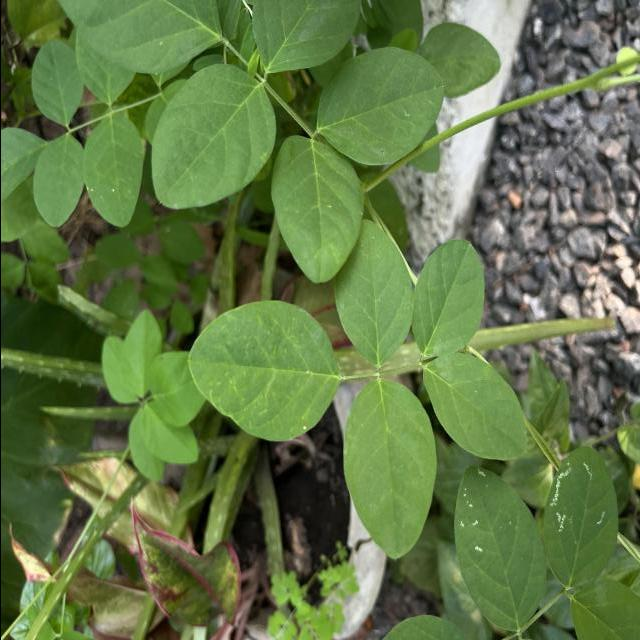Clitoria ternatea: (184, 297, 341, 444), (148, 60, 278, 212), (340, 376, 438, 564), (450, 462, 547, 634), (314, 44, 444, 168), (268, 134, 366, 286), (330, 216, 412, 369), (420, 351, 528, 462), (539, 444, 619, 590), (408, 235, 486, 363)
